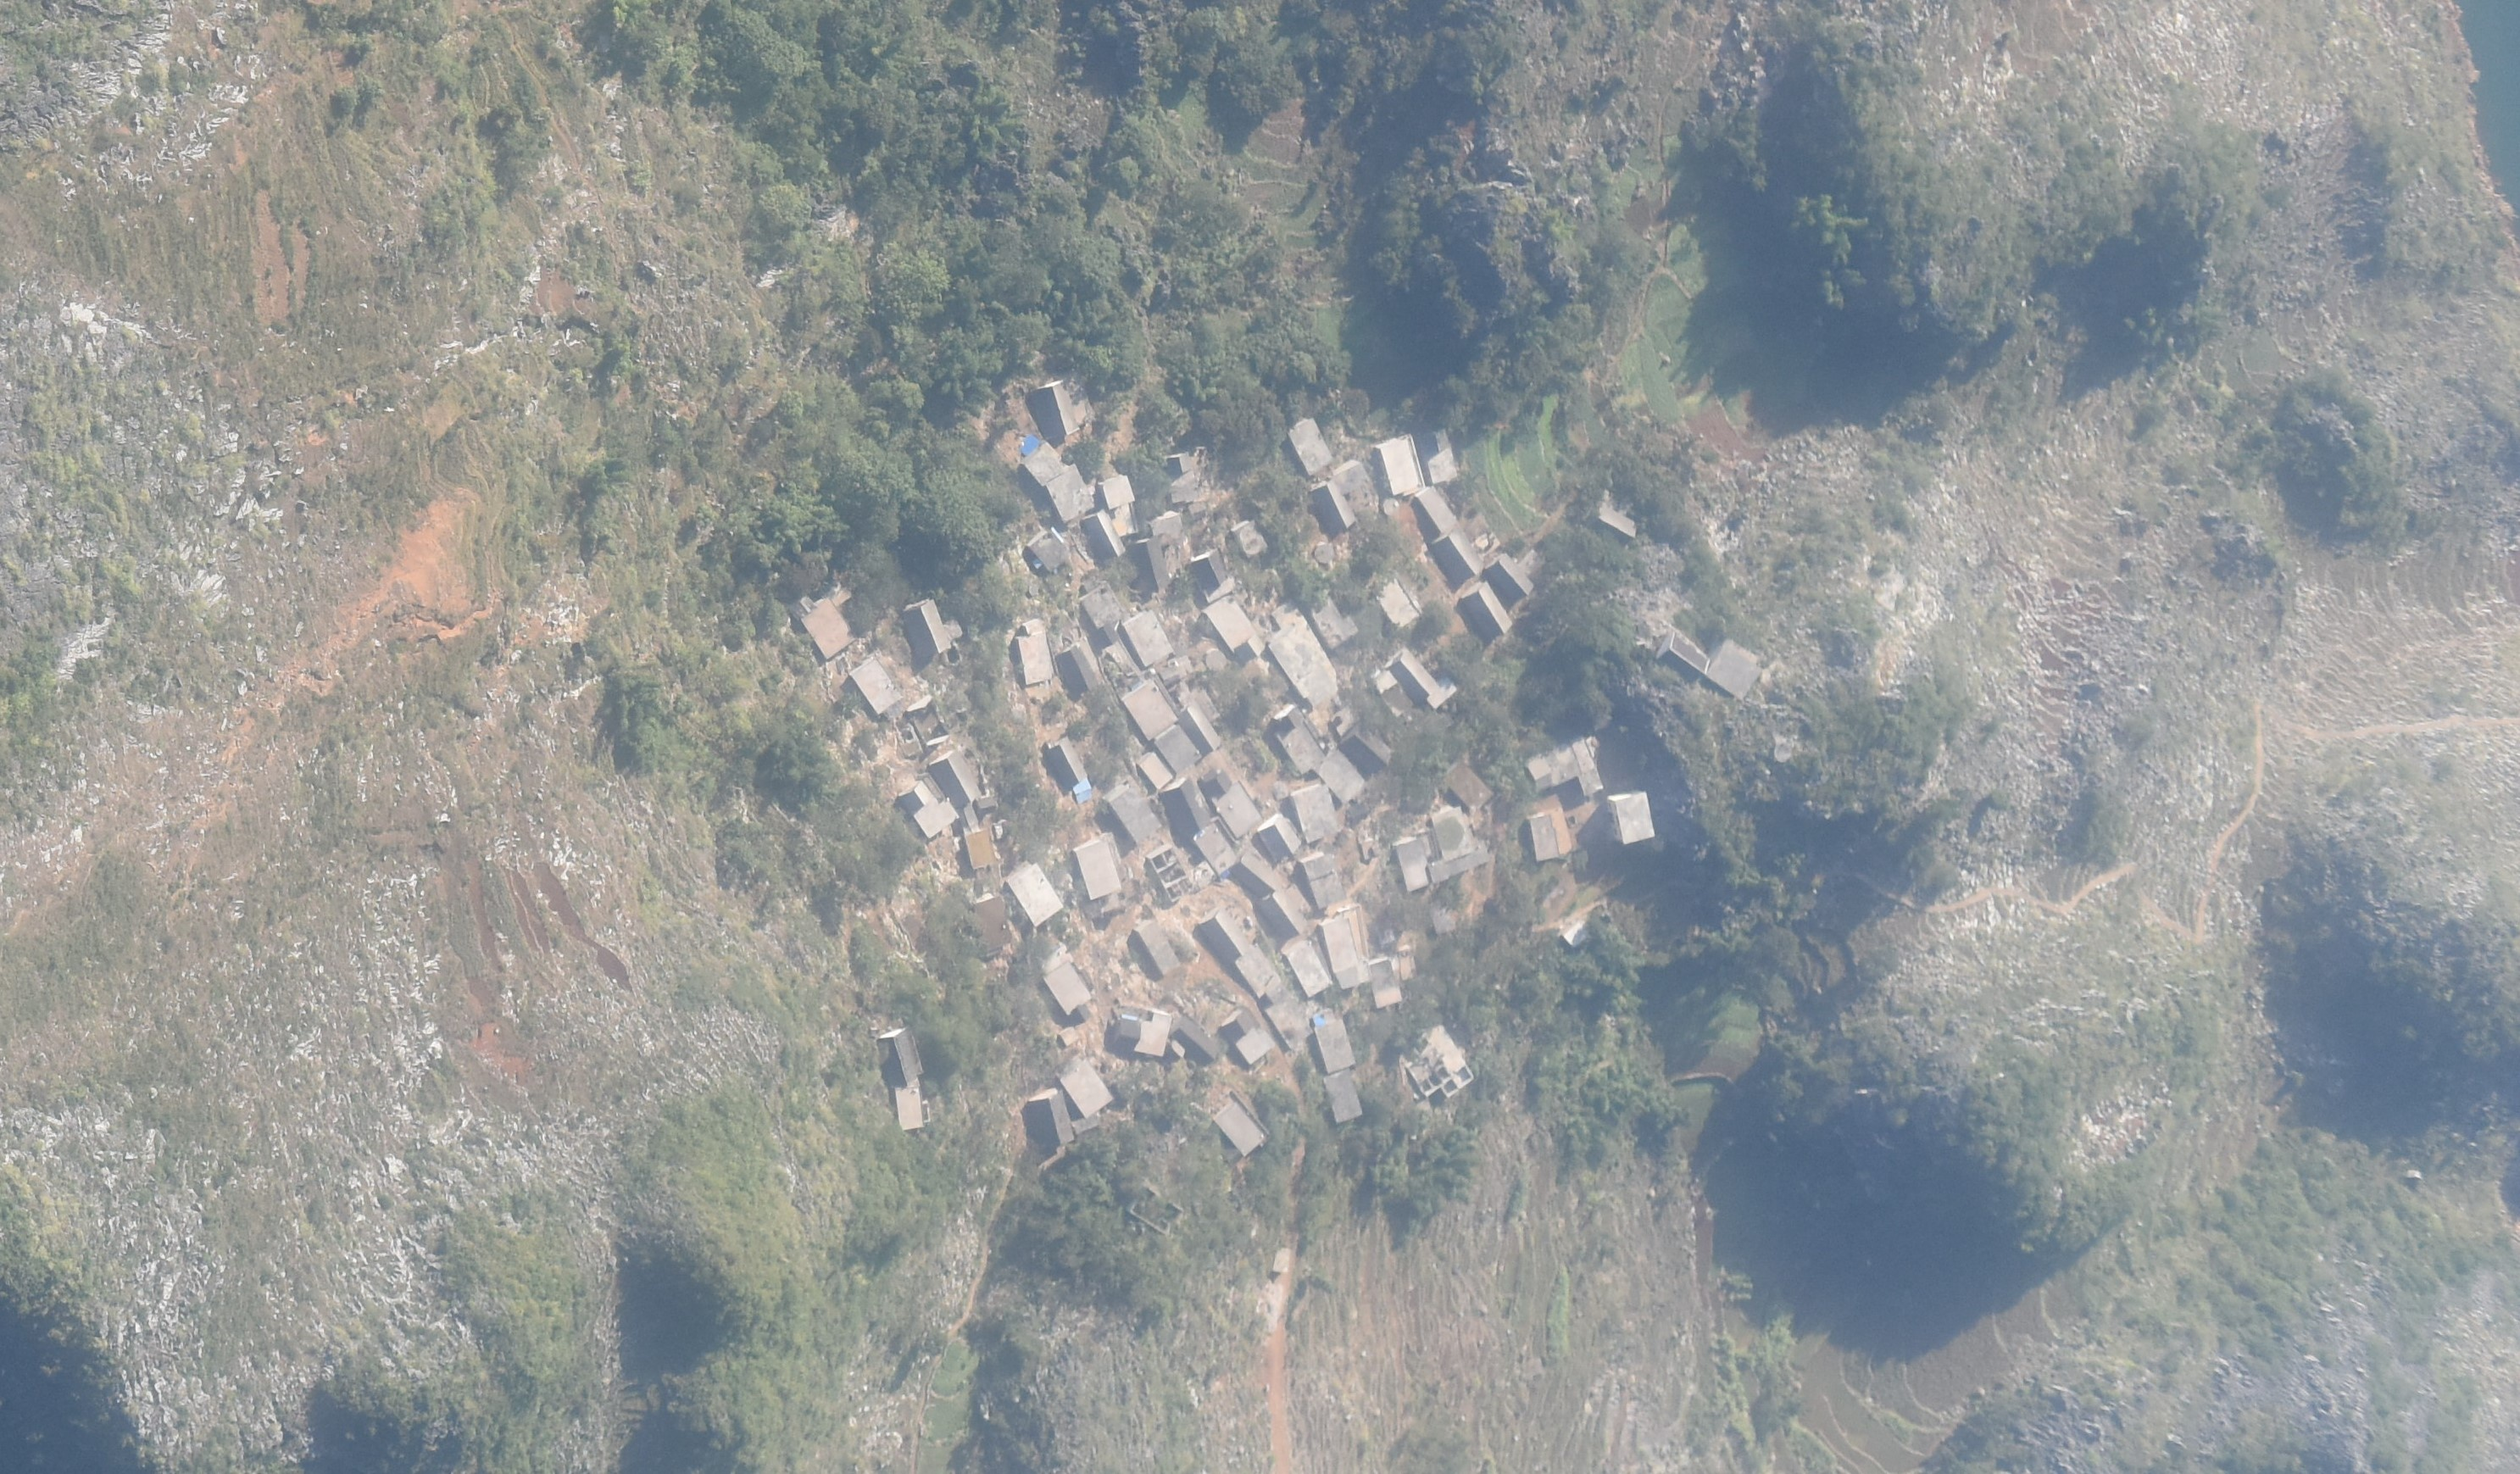building: (1203, 911, 1312, 1048), (1398, 806, 1488, 891), (1269, 598, 1339, 704), (1241, 848, 1311, 933), (1372, 648, 1458, 714), (1024, 442, 1095, 520), (1399, 1027, 1474, 1098), (1525, 736, 1604, 795), (793, 596, 857, 660), (1202, 597, 1265, 661), (1204, 767, 1261, 837), (1271, 703, 1327, 774), (898, 779, 960, 839), (1007, 861, 1062, 926), (1322, 916, 1370, 989), (1121, 679, 1178, 738), (847, 659, 904, 715), (1710, 639, 1762, 700), (902, 598, 952, 660), (1074, 838, 1123, 902), (1305, 587, 1357, 647), (1060, 1059, 1113, 1115), (1097, 624, 1140, 693), (1129, 1185, 1184, 1238), (1213, 1103, 1266, 1158), (1460, 581, 1514, 636), (1377, 435, 1424, 496), (1163, 777, 1210, 839), (930, 748, 979, 807), (1111, 787, 1160, 845), (1030, 379, 1077, 438), (1117, 1007, 1171, 1059), (1372, 570, 1421, 627), (1123, 609, 1171, 666), (1314, 1006, 1355, 1073), (1432, 526, 1483, 581), (1291, 782, 1335, 843), (1151, 843, 1195, 904), (1444, 759, 1495, 809), (1016, 619, 1055, 686), (1289, 416, 1332, 476), (1046, 961, 1093, 1015), (1030, 1090, 1073, 1149), (1300, 853, 1346, 907), (880, 1027, 922, 1086), (1320, 748, 1366, 802), (971, 897, 1013, 954), (1098, 476, 1138, 537), (1196, 816, 1238, 872), (1057, 643, 1099, 700), (1341, 725, 1389, 773), (1484, 553, 1533, 601), (1657, 633, 1708, 679), (1191, 548, 1234, 602), (1289, 940, 1330, 996), (1138, 918, 1178, 974), (1322, 1068, 1362, 1125), (1045, 736, 1087, 790), (1310, 483, 1357, 531), (1168, 681, 1220, 725), (1225, 1012, 1267, 1065), (1414, 486, 1457, 537), (1155, 725, 1202, 771), (1599, 486, 1639, 539), (1131, 537, 1169, 593), (1616, 792, 1655, 845), (1084, 508, 1124, 561), (1180, 704, 1221, 754), (1172, 1020, 1218, 1064), (1165, 453, 1200, 506), (1027, 531, 1069, 575), (1084, 583, 1125, 627), (1261, 815, 1300, 859), (1528, 813, 1561, 861), (1428, 431, 1457, 486), (1371, 959, 1401, 1010), (897, 1086, 930, 1131), (1233, 519, 1268, 561), (966, 828, 995, 870), (1138, 753, 1171, 789), (1157, 654, 1195, 683), (1333, 462, 1367, 493), (1040, 941, 1072, 973), (1431, 898, 1456, 935), (1561, 921, 1594, 949), (1328, 708, 1360, 735), (1149, 514, 1185, 537), (830, 576, 852, 604), (1071, 1116, 1097, 1133), (976, 795, 998, 815), (1274, 1246, 1289, 1272), (1060, 1025, 1077, 1046), (1272, 781, 1288, 798)
prefabricated-house: (1071, 779, 1091, 803), (1018, 435, 1039, 456)
well: (1204, 648, 1227, 674), (943, 616, 964, 641), (1315, 544, 1334, 564), (1383, 499, 1399, 516)
